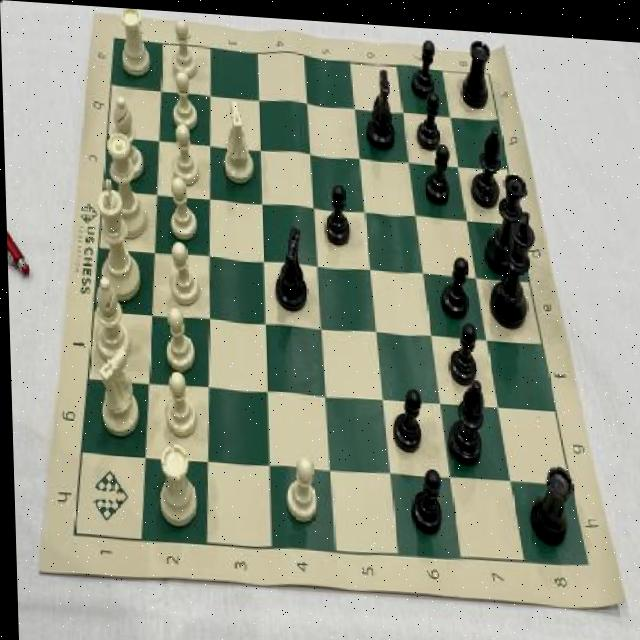bishop: (442, 372, 483, 461), (470, 115, 502, 204)
black-bishop: (486, 202, 536, 326)
black-king: (272, 217, 310, 310), (362, 62, 397, 145)
black-knight: (388, 380, 423, 452), (445, 316, 481, 379), (407, 461, 440, 529), (320, 177, 350, 242), (439, 246, 468, 313), (409, 29, 438, 93), (423, 138, 450, 202), (415, 85, 442, 147)
black-pawn: (482, 162, 532, 270)
black-queen: (524, 455, 573, 542), (458, 32, 489, 103)
black-rook: (91, 275, 129, 361), (111, 93, 144, 180)
white-bishop: (95, 176, 139, 298)
white-king: (92, 344, 138, 437), (220, 96, 254, 189)
white-knight: (281, 448, 316, 522), (161, 366, 194, 435), (162, 302, 194, 368), (167, 238, 198, 302), (167, 175, 196, 239), (172, 123, 198, 182), (172, 67, 198, 125), (171, 17, 196, 76)
white-pawn: (104, 129, 146, 238)
white-queen: (155, 438, 195, 527), (120, 7, 149, 75)
